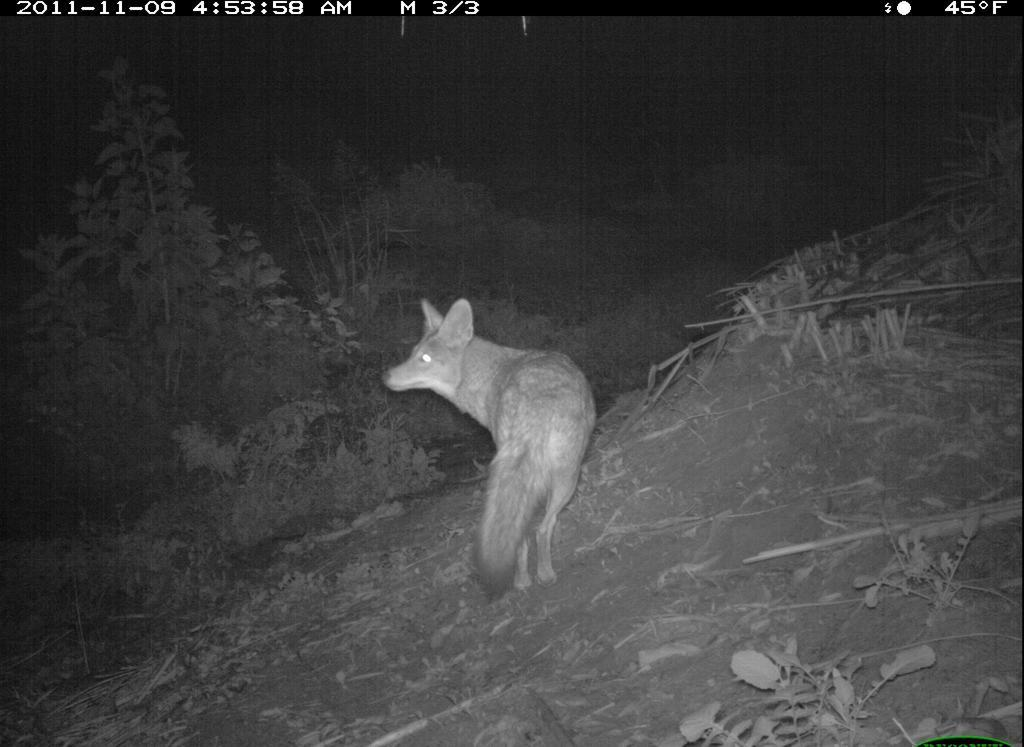coyote: (377, 290, 603, 610)
